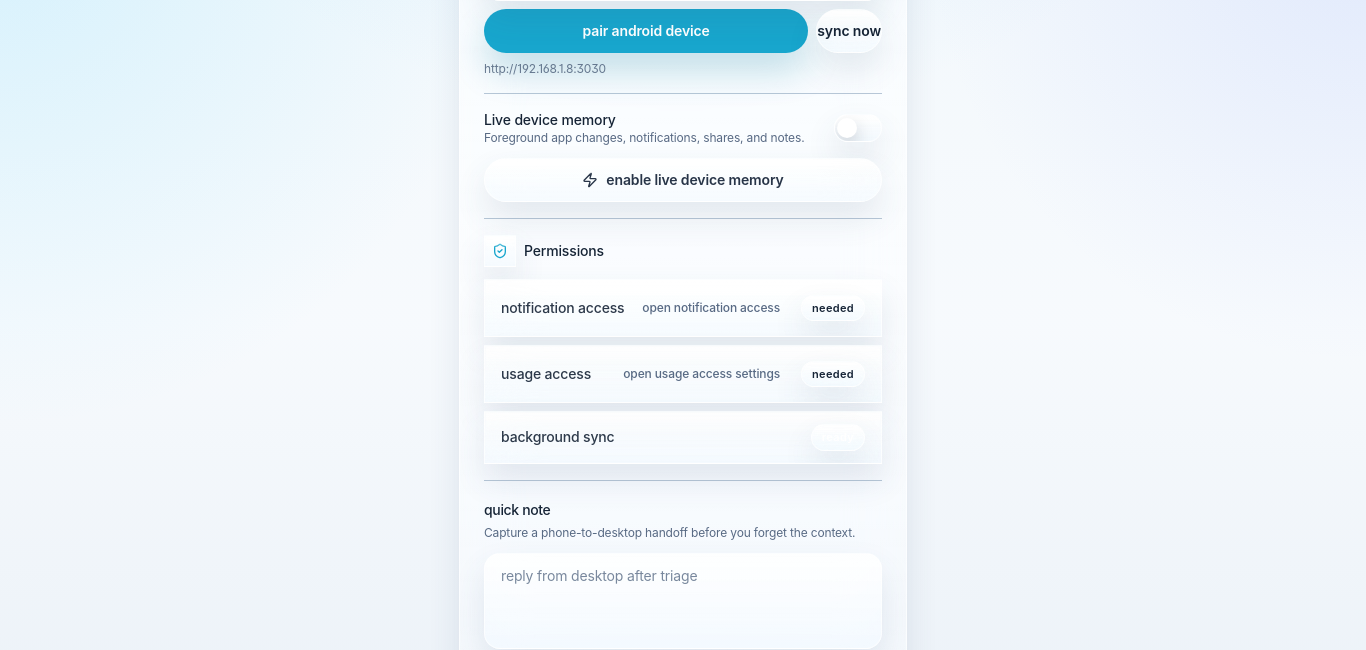
it: AndroidSatelliteScreen › opens Android permission actions and refreshes the permission badges
The image size is (1366, 650).
(page scrolled)
Expected: the text "needed" is shown 2 times, [801, 295, 865, 321]; [801, 361, 865, 387]
Step 1. Click the button "open notification access" → coordinates (711, 308), box [629, 292, 793, 324]
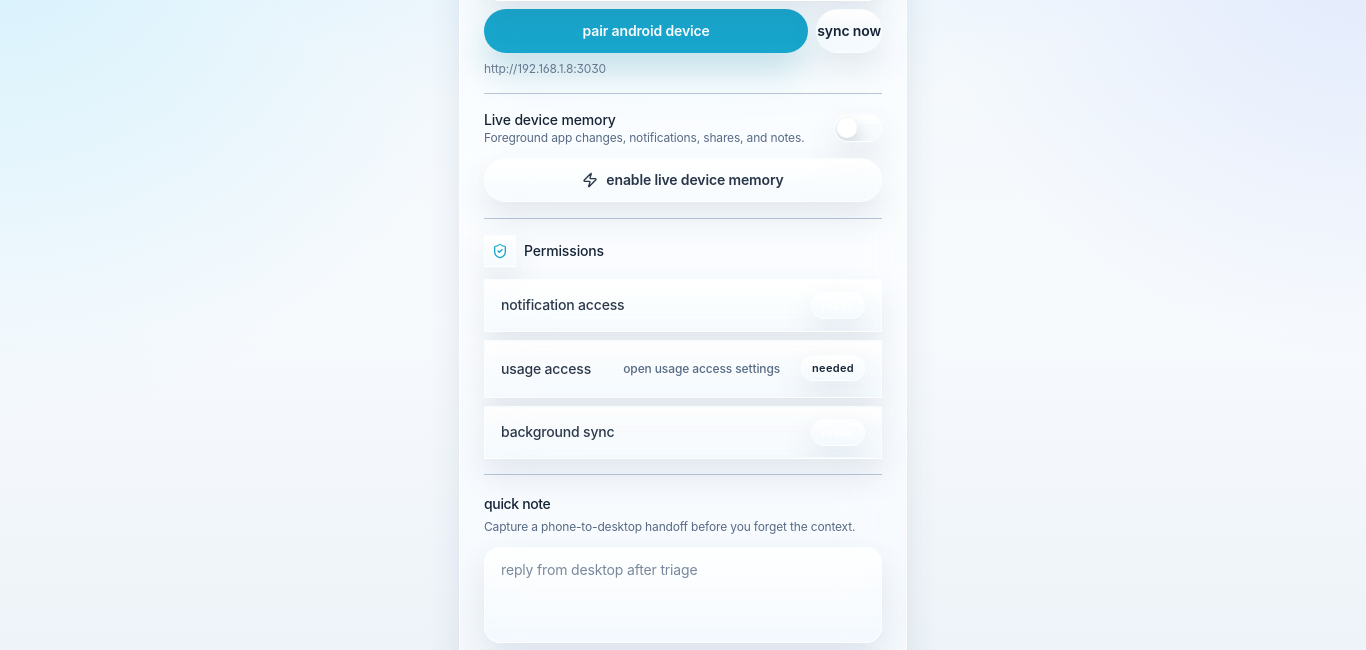
Expected: the button "open notification access" is gone
Step 2. Click the button "open usage access settings" → coordinates (702, 368), box [610, 352, 793, 384]
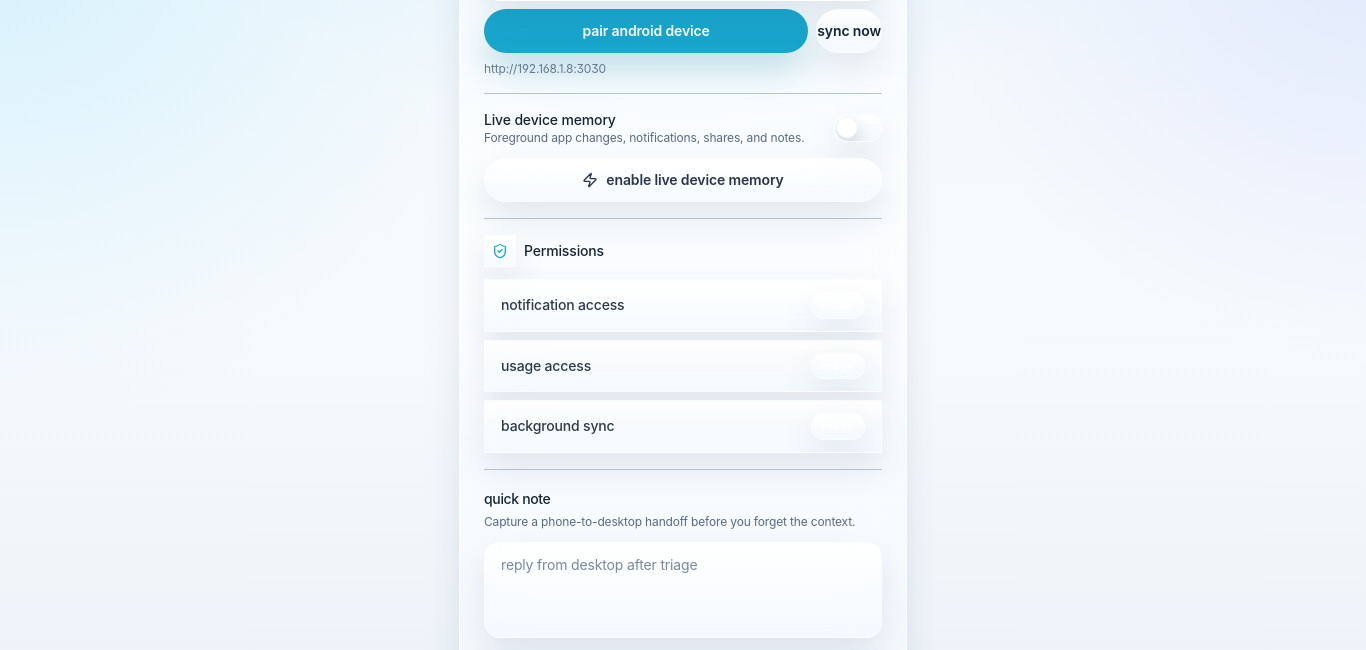
Expected: the button "open usage access settings" is gone
